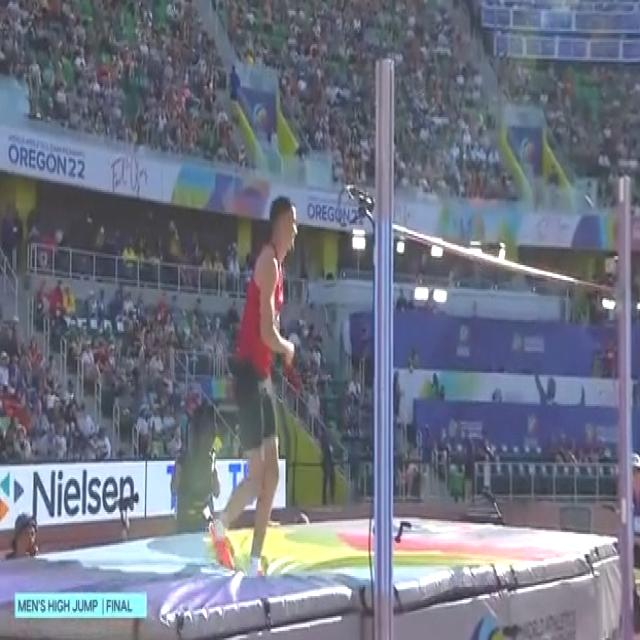land: (208, 194, 301, 578)
